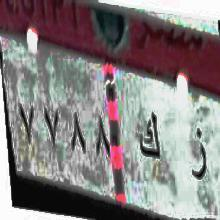7: (16, 98, 35, 152), (41, 101, 60, 152)
8: (69, 105, 86, 162), (94, 112, 110, 165)
kaaf: (139, 107, 164, 166)
zay: (189, 123, 207, 186)
